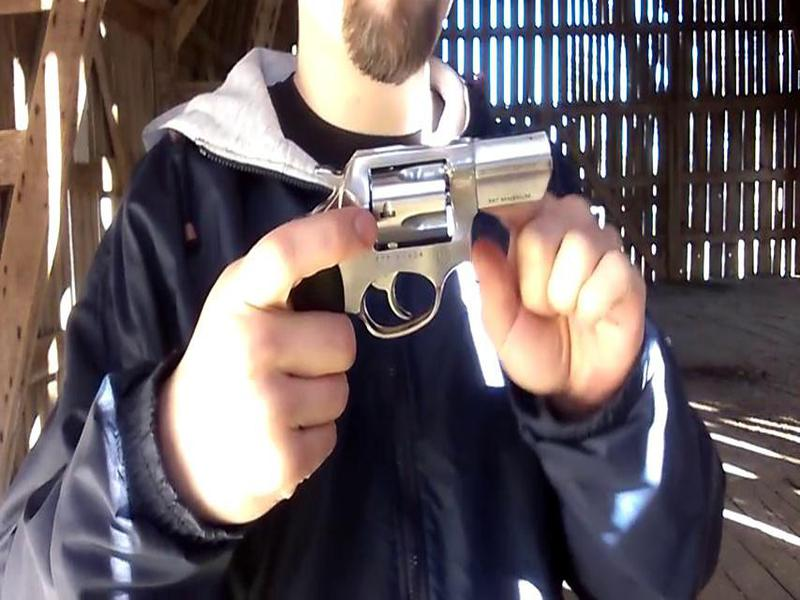Revolver: (249, 102, 565, 397)
